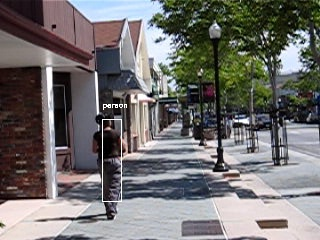person: (93, 113, 127, 222), (92, 113, 126, 222), (94, 113, 128, 222), (93, 112, 127, 221), (93, 114, 127, 223)
target_negative: (57, 86, 185, 234), (67, 133, 234, 209), (234, 129, 254, 238), (98, 238, 184, 239), (92, 23, 135, 25), (305, 136, 318, 142)
